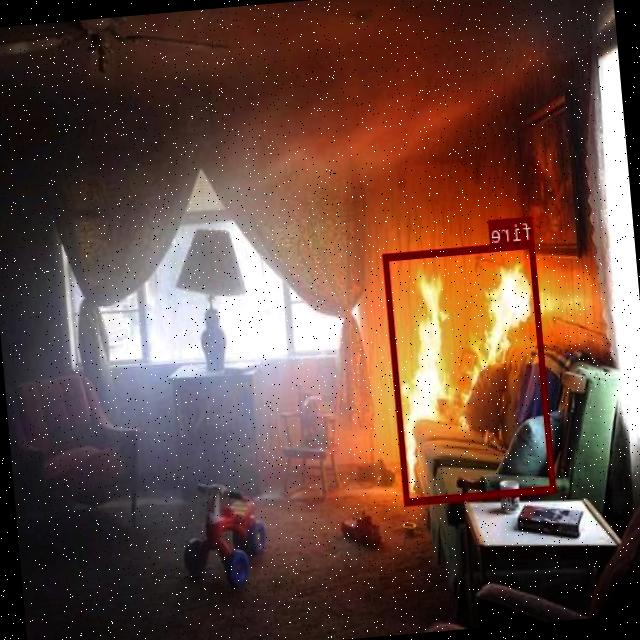fire: (383, 240, 556, 503)
